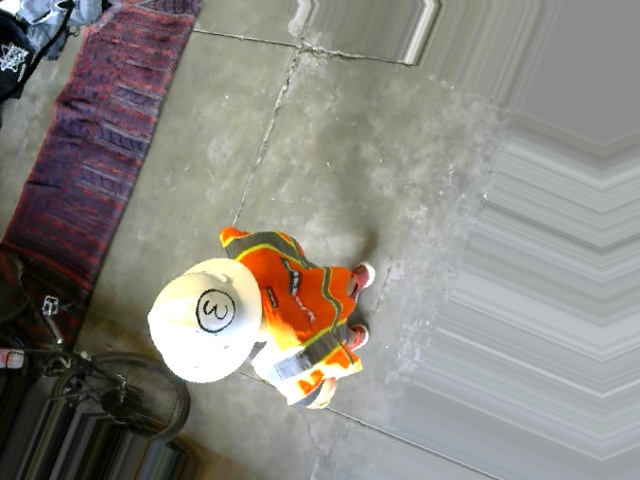three: (188, 283, 239, 337)
